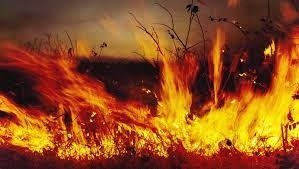fire: (0, 25, 269, 167)
